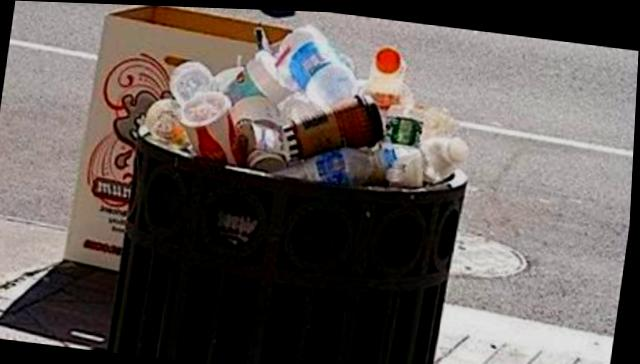Disposable: (293, 92, 384, 156), (181, 89, 245, 162), (215, 48, 290, 102)
Garbage: (147, 23, 469, 185)
Plastic_bottle: (276, 22, 357, 107), (276, 140, 398, 185), (365, 43, 406, 107), (422, 133, 470, 181), (169, 60, 216, 104)
